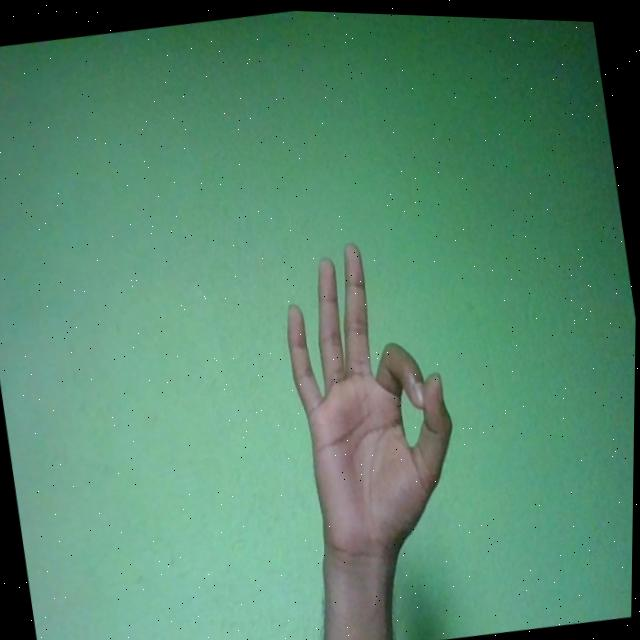Ok: (272, 226, 475, 567)
